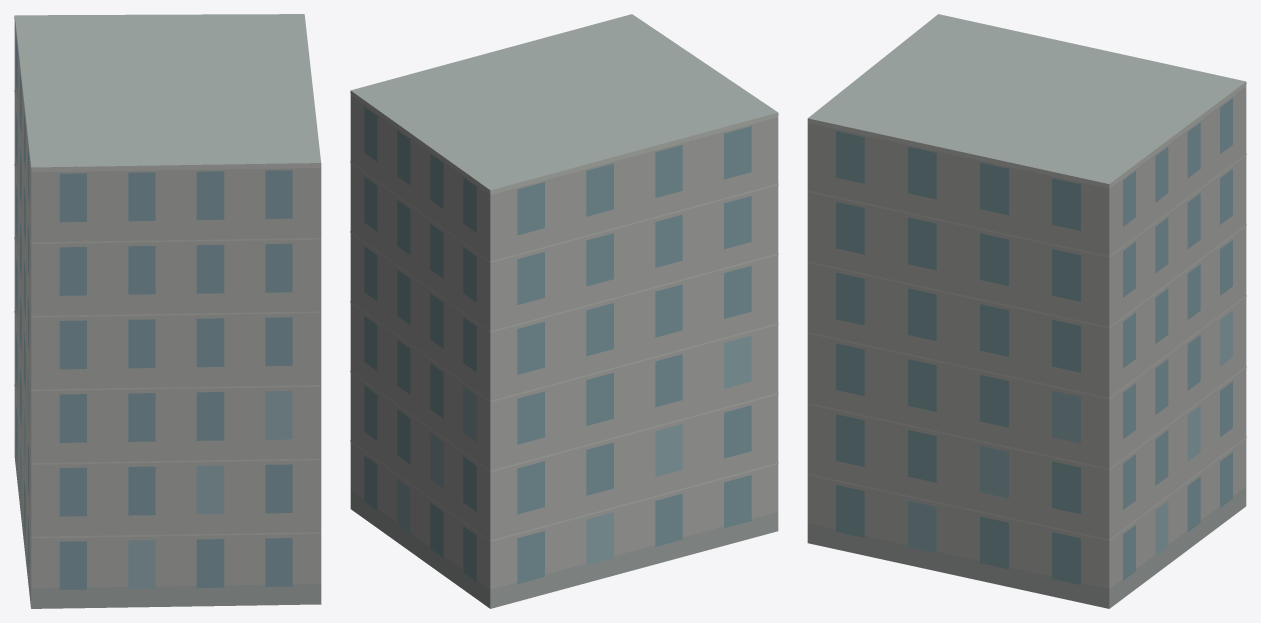
Rendered from survey-upis-32971976.glb.
3 views of the same model, side by side, from view 1: azimuth 30°, elevation 25°; view 2: azimuth 150°, elevation 25°; view 3: azimuth 270°, elevation 25° (orthographic). The views are drawn at different scales.
Parts seen in each view (by area): view 1: survey-upis-32971976.tmp; view 2: survey-upis-32971976.tmp; view 3: survey-upis-32971976.tmp.
Boxes of the visible parts, box(x1,y1,x2,y2) form: survey-upis-32971976.tmp: box(14, 14, 321, 608); survey-upis-32971976.tmp: box(350, 14, 778, 608); survey-upis-32971976.tmp: box(807, 14, 1246, 608).
Bounding box in the file's own units: 18.7 × 21.74 × 20.37.
